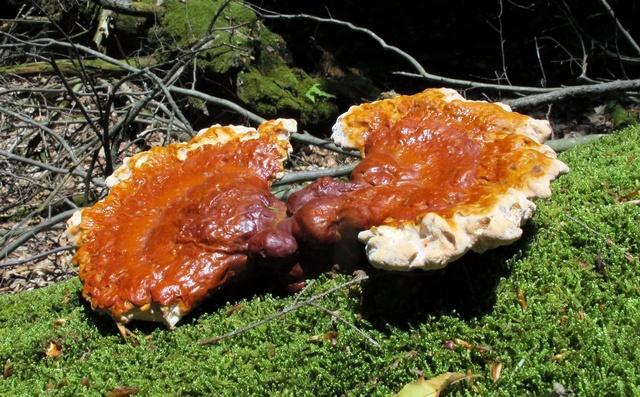poisonous_mushroom: (285, 85, 569, 274), (64, 115, 299, 333)
